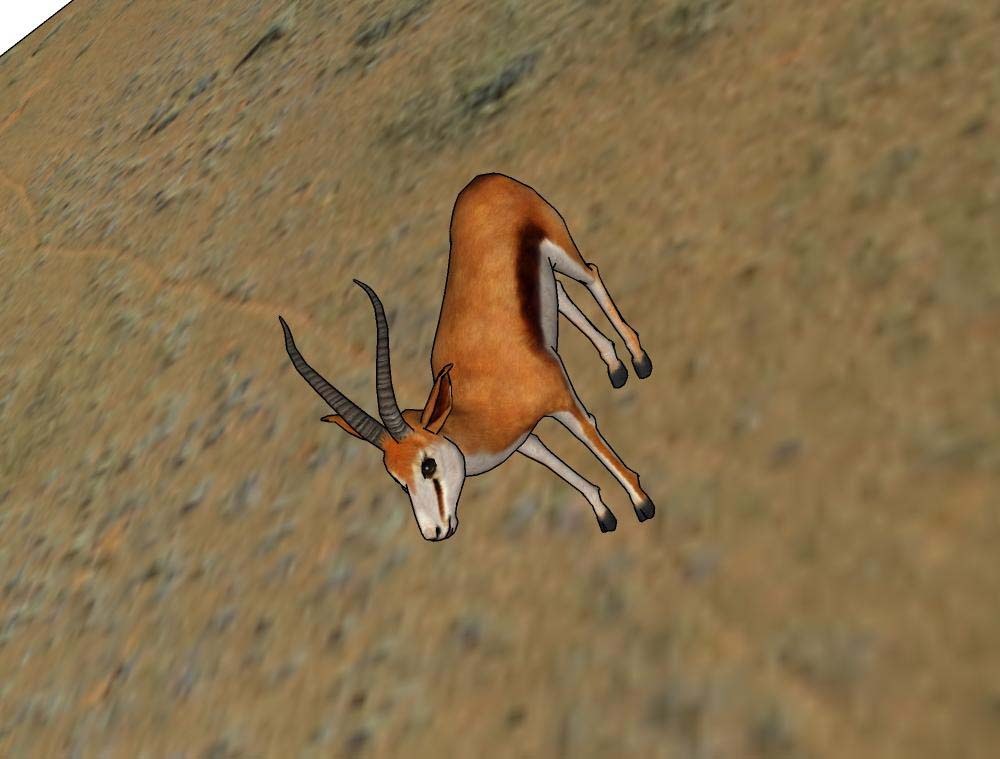springbok: (277, 160, 663, 568)
